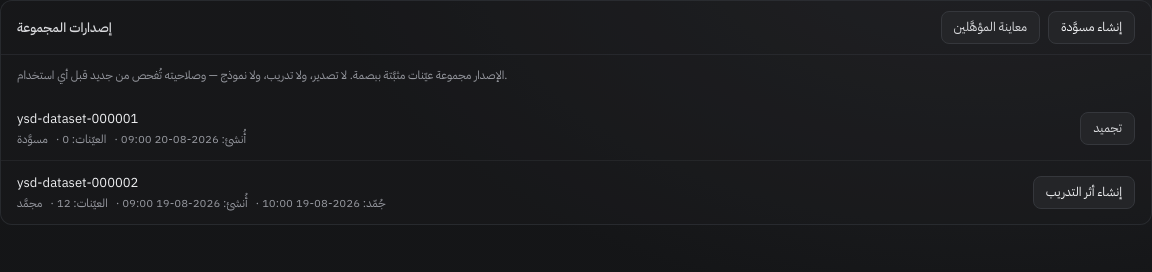
Scenario: ★ (٣) المسوَّدة — جسمٌ بلا معرّفات › ★ ★ والنجاح ينفي التدريب والتصدير
The image size is (1152, 272).
What coordinates should you click on to do the following:
click the button "إنشاء مسوَّدة"
I would click on:
 (1092, 27)
Its box is [1048,11,1135,44].
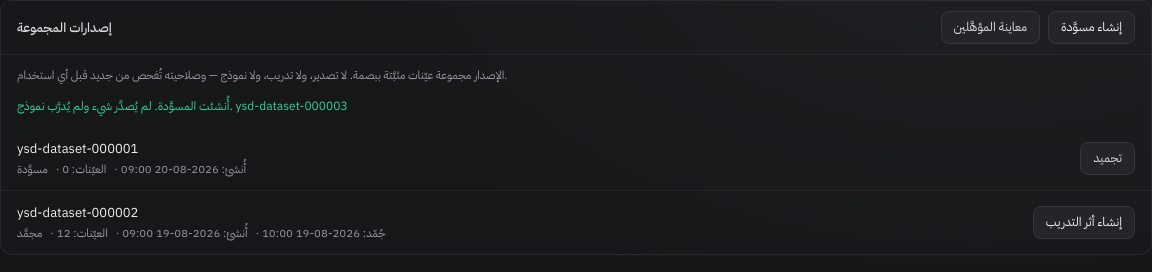
expect the text "لم يُصدَّر شيء ولم يُدرَّب نموذج" is shown: met, box [17,97,233,115]
